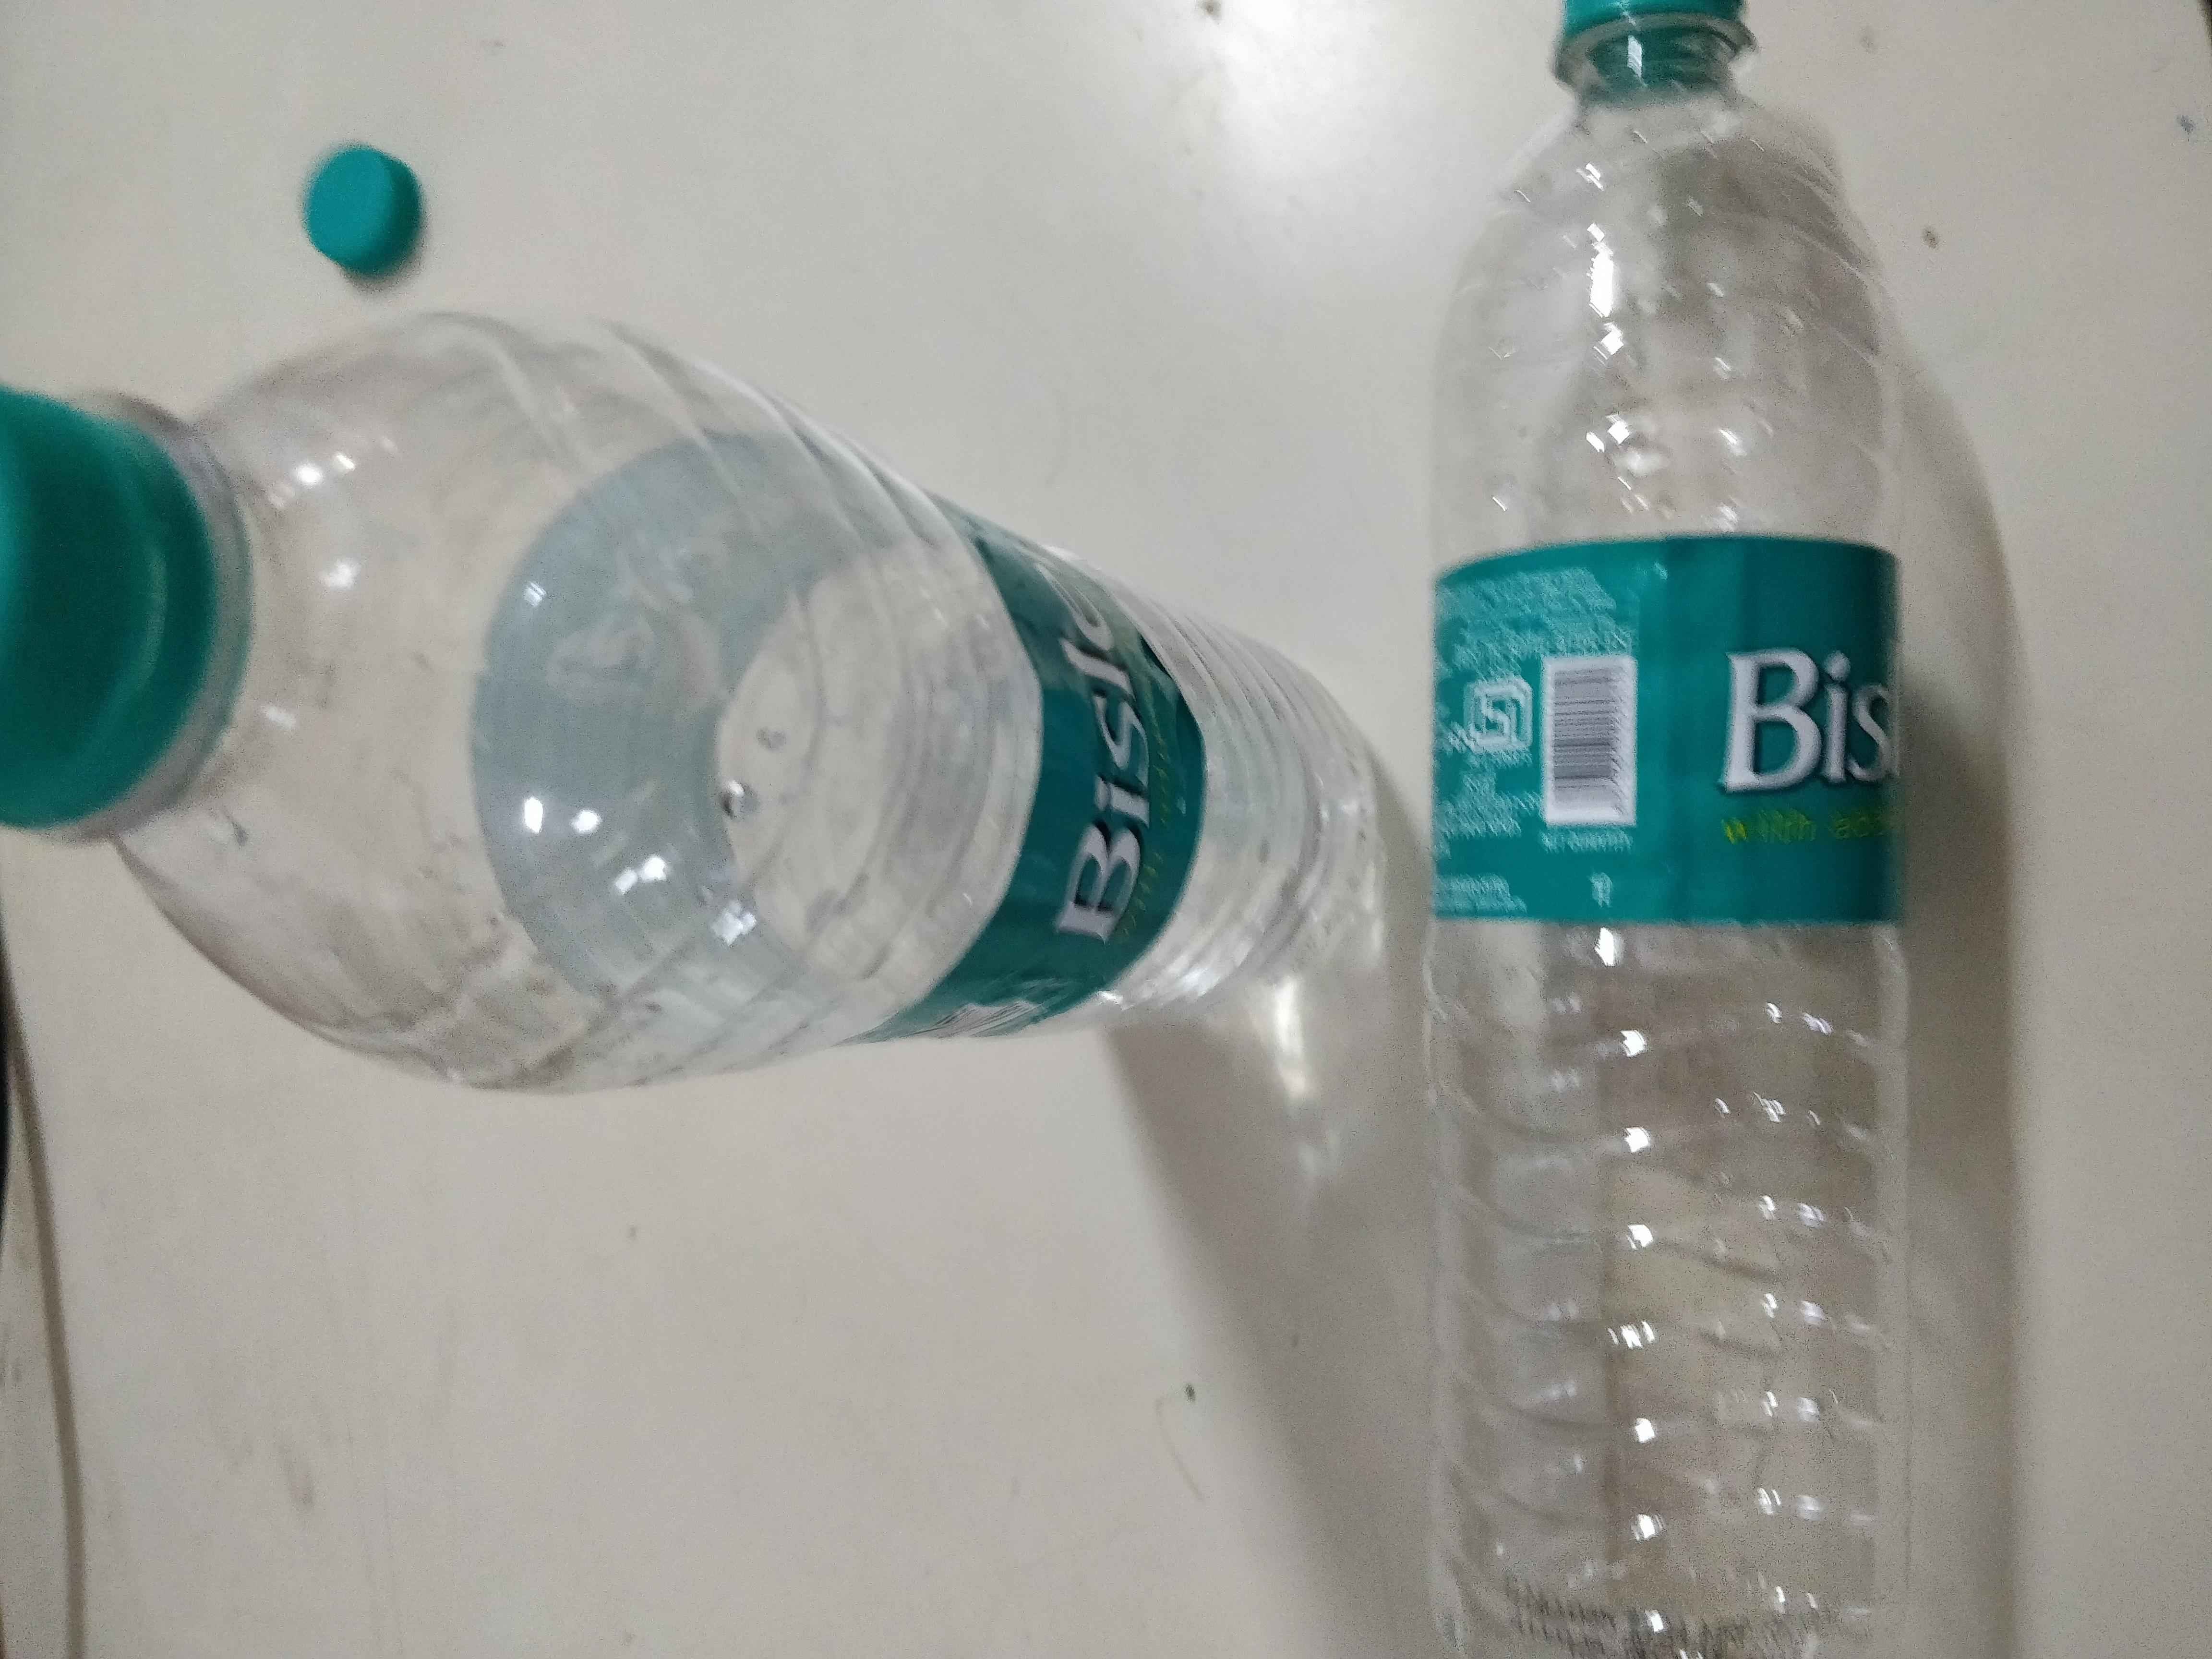Bisleri: (1667, 596, 1897, 854), (1019, 542, 1150, 969)
